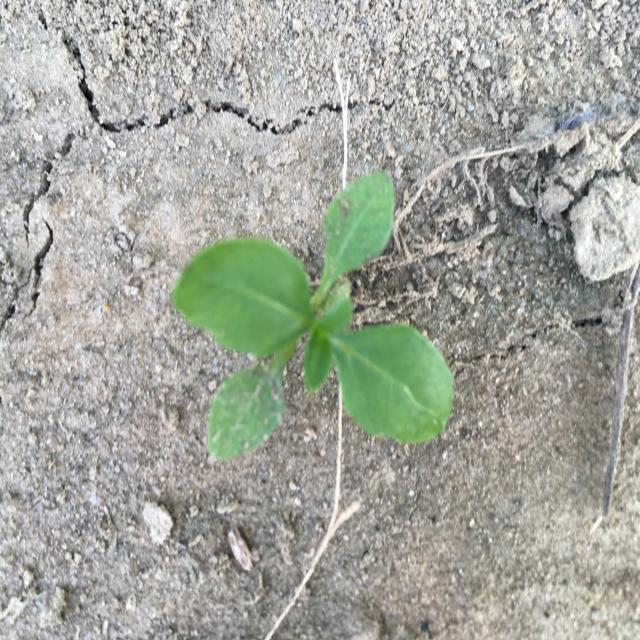Eclipta: (172, 171, 454, 460)
